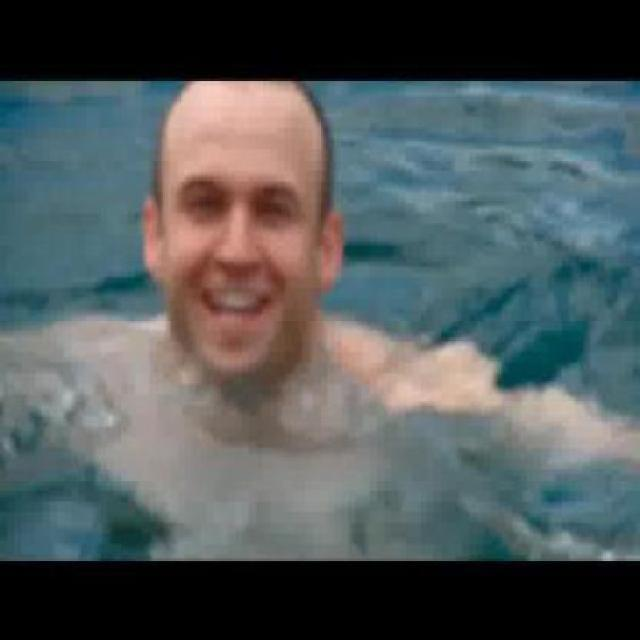Out of Water: (84, 80, 408, 421)
